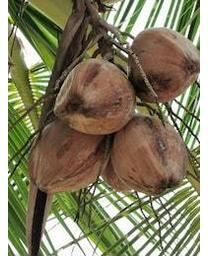coconut: (51, 54, 137, 134), (24, 120, 111, 192), (113, 112, 188, 194), (129, 19, 200, 103)
